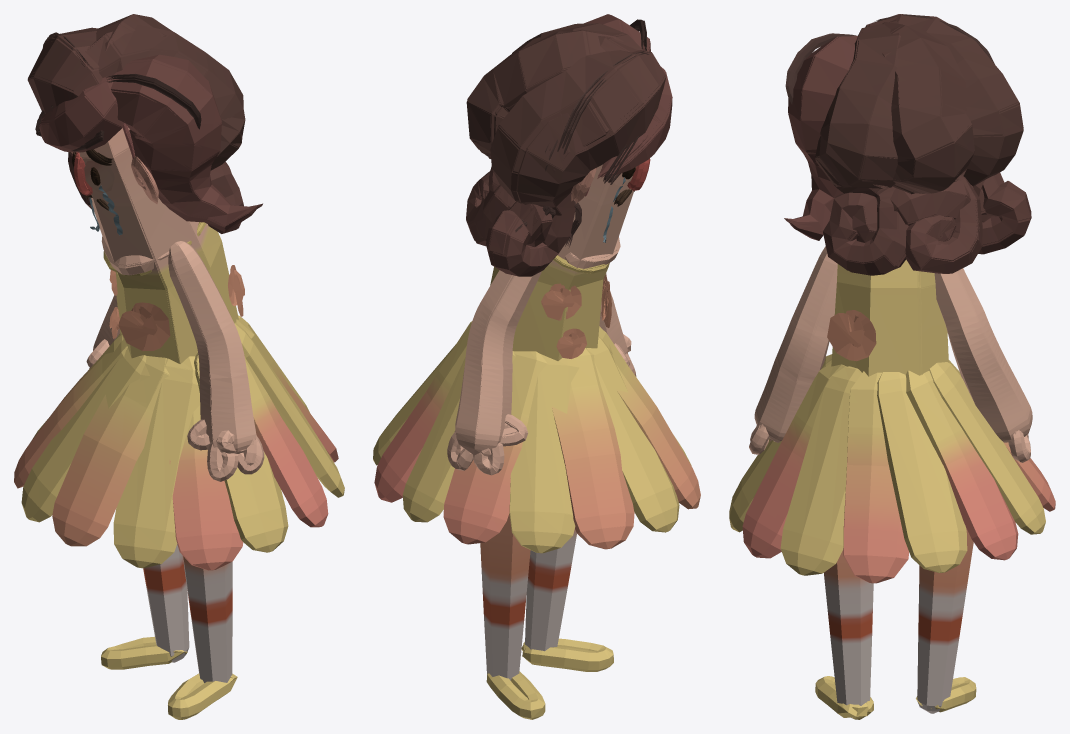
The model's file is Momsad.fbx.
3 views of the same model, side by side, from view 1: azimuth 30°, elevation 25°; view 2: azimuth 150°, elevation 25°; view 3: azimuth 270°, elevation 25° (orthographic).
Parts seen in each view (by area): view 1: Momsad; view 2: Momsad; view 3: Momsad.
Boxes of the visible parts, box(x1,y1,x2,y2) form: Momsad: box(14, 14, 344, 719); Momsad: box(373, 14, 700, 719); Momsad: box(729, 14, 1055, 719).
Size of the model in its own units: 1.23 by 2.75 by 1.23.
